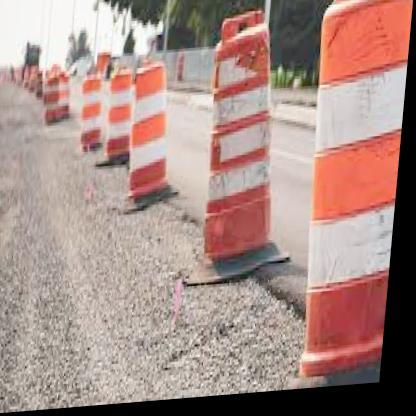obstacle: (197, 21, 295, 266), (126, 68, 185, 196)
